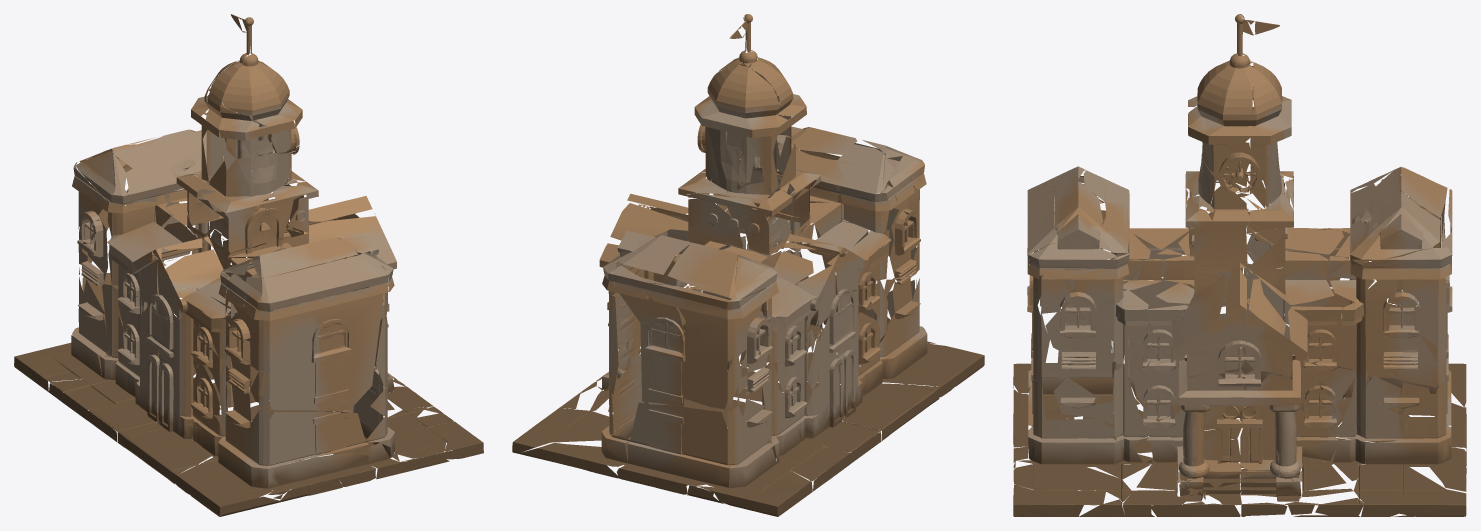
Rendered from hero-city-hall.glb.
The picture shows the model from 3 angles, left to right: view 1: azimuth 30°, elevation 25°; view 2: azimuth 150°, elevation 25°; view 3: azimuth 270°, elevation 25°; orthographic projection. The views are drawn at different scales.
Visible parts, largest first — view 1: world; view 2: world; view 3: world.
Part boxes in pixels (box(x1,y1,x2,y2)): world: box(14, 14, 483, 516); world: box(512, 14, 984, 516); world: box(1013, 14, 1466, 516).
Size of the model in its own units: 2 by 2.84 by 2.7.
